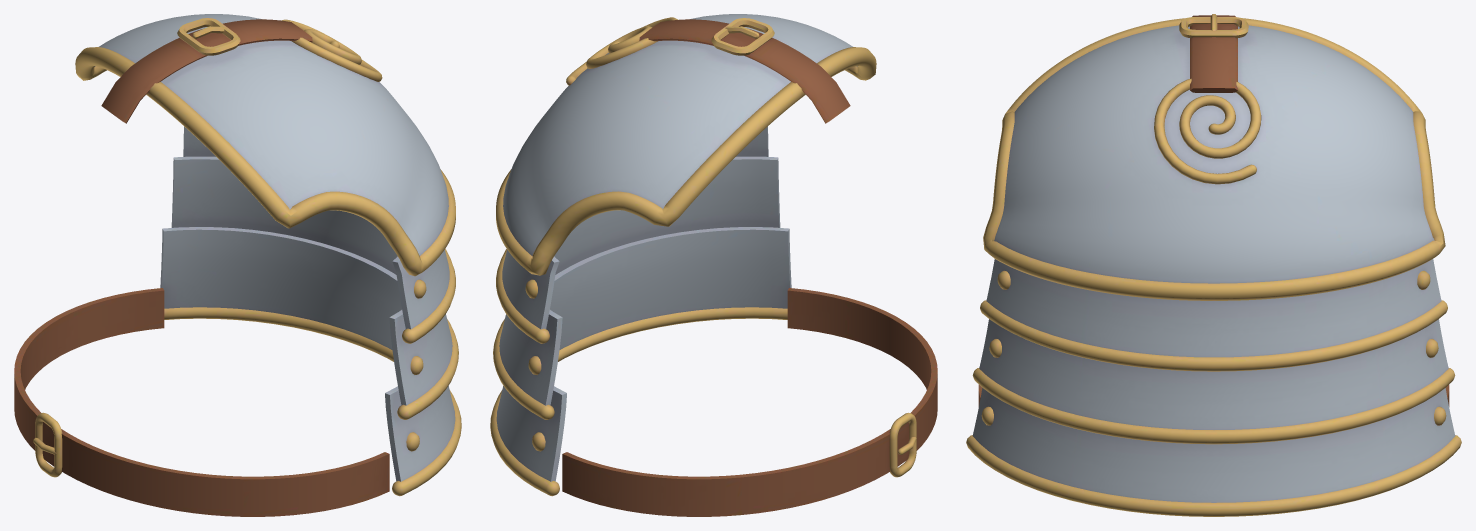
Rendered from pauldron.glb.
3 renders of one model, left to right at view 1: azimuth 30°, elevation 25°; view 2: azimuth 150°, elevation 25°; view 3: azimuth 270°, elevation 25°, orthographic.
Visible parts, largest first — view 1: pauldron_body; view 2: pauldron_body; view 3: pauldron_body.
Part boxes in pixels (left/top/right/bottom): pauldron_body: left=14, top=14, right=461, bottom=516; pauldron_body: left=490, top=14, right=937, bottom=516; pauldron_body: left=966, top=14, right=1461, bottom=516.
Size of the model in its own units: 0.2768 by 0.2812 by 0.3105.
Materials: 1 (1 with a texture image).
